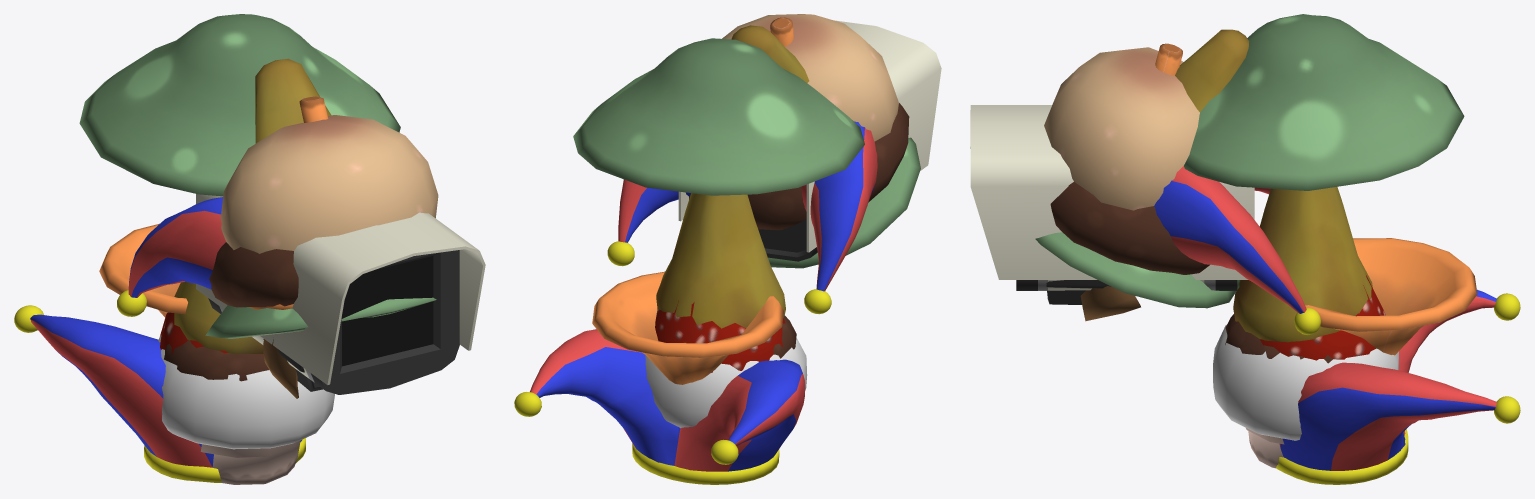
The model's file is shailushaiHead3.fbx.
The picture shows the model from 3 angles, left to right: view 1: azimuth 30°, elevation 25°; view 2: azimuth 150°, elevation 25°; view 3: azimuth 270°, elevation 25°; orthographic projection. The views are drawn at different scales.
Visible parts, largest first — view 1: 7.001_Cube.005, NurbsPath, 3.001_Cube.001, 1.001_Cube.006, Hat.001, Hat, 5.001_Cube.002, 2.001_Plane.002, 7.001_Cube.001, 4.001_Cube.002, 5.001_Cube.001, 2.001_Plane.001 (+2 smaller); view 2: 7.001_Cube.005, Hat.001, 2.001_Plane.001, Hat, 3.001_Cube.001, 4.001_Cube.002, NurbsPath, 1.001_Cube.006, 5.001_Cube.002, 7.001_Cube.001, 6.001_Cube.004, 2.001_Plane.002 (+2 smaller); view 3: 7.001_Cube.005, 3.001_Cube.001, Hat.001, NurbsPath, 2.001_Plane.001, Hat, 4.001_Cube.002, 1.001_Cube.006, 5.001_Cube.002, 7.001_Cube.001, 2.001_Plane.002, 6.001_Cube.004 (+3 smaller).
Part boxes in pixels (x1=…): 7.001_Cube.005: x1=79, y1=14, x2=400, y2=196; NurbsPath: x1=196, y1=194, x2=485, y2=394; 3.001_Cube.001: x1=220, y1=115, x2=438, y2=253; 1.001_Cube.006: x1=158, y1=335, x2=334, y2=484; Hat.001: x1=14, y1=305, x2=305, y2=482; Hat: x1=117, y1=197, x2=298, y2=398; 5.001_Cube.002: x1=209, y1=242, x2=298, y2=307; 2.001_Plane.002: x1=255, y1=58, x2=331, y2=143; 7.001_Cube.001: x1=205, y1=297, x2=436, y2=338; 4.001_Cube.002: x1=99, y1=223, x2=187, y2=317; 5.001_Cube.001: x1=164, y1=339, x2=268, y2=381; 2.001_Plane.001: x1=174, y1=281, x2=263, y2=354; 7.001_Cube.005: x1=573, y1=38, x2=864, y2=195; Hat.001: x1=514, y1=329, x2=804, y2=484; 2.001_Plane.001: x1=656, y1=193, x2=785, y2=328; Hat: x1=607, y1=121, x2=877, y2=314; 3.001_Cube.001: x1=722, y1=14, x2=898, y2=141; 4.001_Cube.002: x1=592, y1=271, x2=783, y2=384; NurbsPath: x1=678, y1=20, x2=941, y2=261; 1.001_Cube.006: x1=645, y1=337, x2=807, y2=428; 5.001_Cube.002: x1=747, y1=103, x2=909, y2=230; 7.001_Cube.001: x1=768, y1=137, x2=920, y2=268; 6.001_Cube.004: x1=655, y1=300, x2=785, y2=372; 2.001_Plane.002: x1=731, y1=25, x2=809, y2=82; 7.001_Cube.005: x1=1184, y1=14, x2=1464, y2=190; 3.001_Cube.001: x1=1044, y1=47, x2=1199, y2=210; Hat.001: x1=1276, y1=289, x2=1520, y2=484; NurbsPath: x1=970, y1=105, x2=1254, y2=290; 2.001_Plane.001: x1=1233, y1=186, x2=1372, y2=342; Hat: x1=1080, y1=166, x2=1320, y2=334; 4.001_Cube.002: x1=1305, y1=238, x2=1477, y2=355; 1.001_Cube.006: x1=1213, y1=325, x2=1398, y2=468; 5.001_Cube.002: x1=1050, y1=182, x2=1209, y2=274; 7.001_Cube.001: x1=1035, y1=232, x2=1240, y2=308; 2.001_Plane.002: x1=1175, y1=29, x2=1249, y2=111; 6.001_Cube.004: x1=1260, y1=275, x2=1385, y2=360.
Size of the model in its own units: 4.43 by 6.7 by 7.78.
